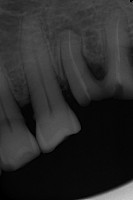Endo-Periodontal Lesion: (83, 56, 107, 81)
Furcation Involvement: (59, 22, 82, 36)
